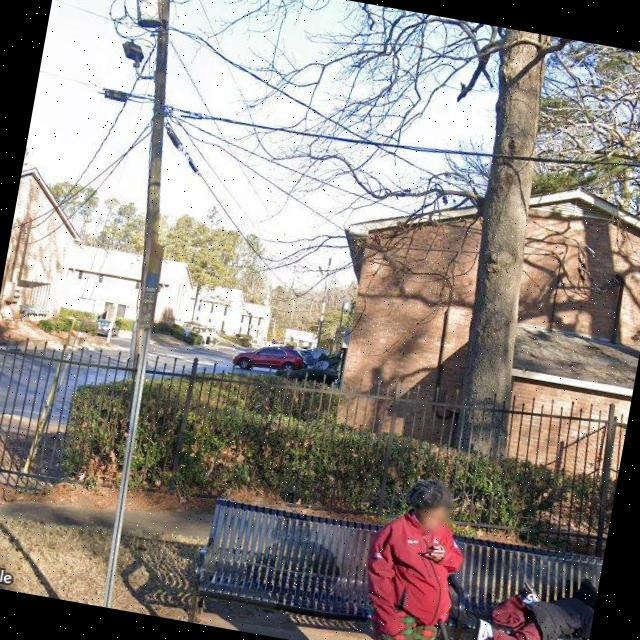seating: (186, 489, 603, 640)
